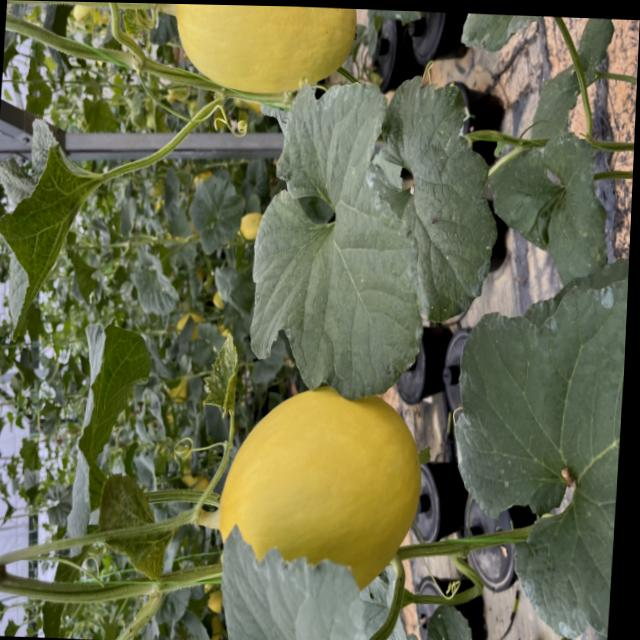CMV: (199, 316, 251, 421)
downy mildew: (244, 80, 454, 406)
healthy: (416, 255, 629, 640), (0, 116, 106, 356), (59, 326, 146, 543)
powdery mildew: (379, 74, 505, 314)
